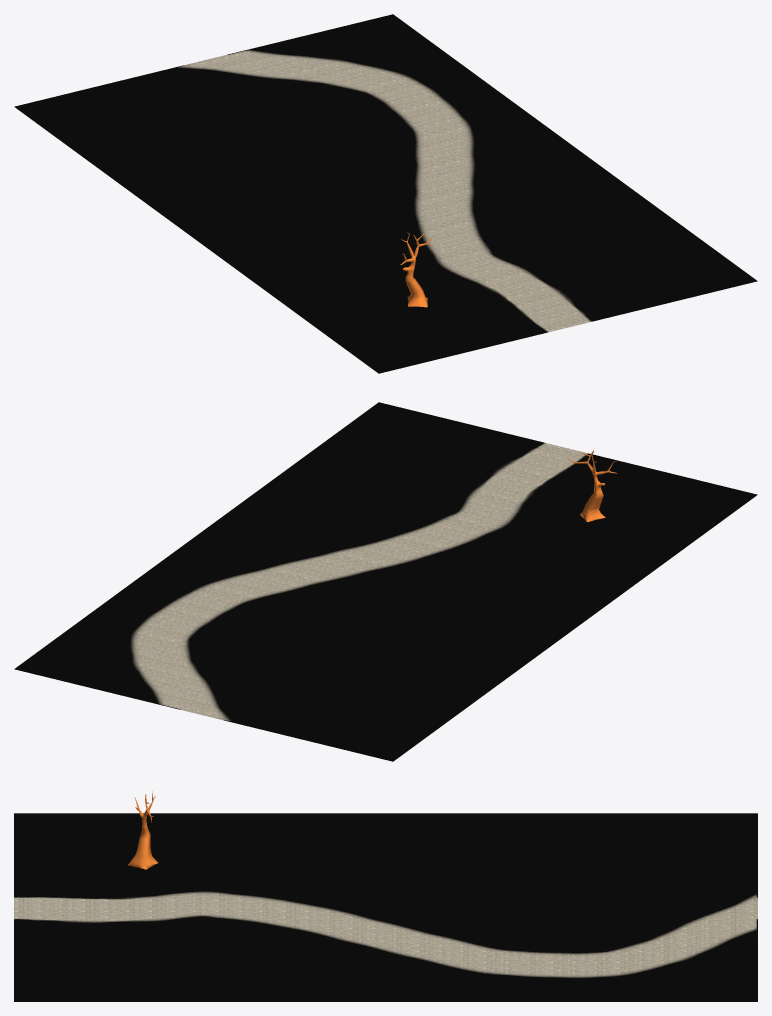
File: tile-last.glb
3 renders of one model, top to bottom at view 1: azimuth 30°, elevation 25°; view 2: azimuth 150°, elevation 25°; view 3: azimuth 270°, elevation 25°, orthographic.
Parts seen in each view (by area): view 1: tile-last; view 2: tile-last; view 3: tile-last.
Boxes of the visible parts, x1=… form: tile-last: x1=14, y1=14, x2=757, y2=373; tile-last: x1=14, y1=402, x2=757, y2=761; tile-last: x1=14, y1=791, x2=757, y2=1001.
Bounding box in the file's own units: 60 × 11.16 × 100.
Materials: 2 (1 with a texture image).
